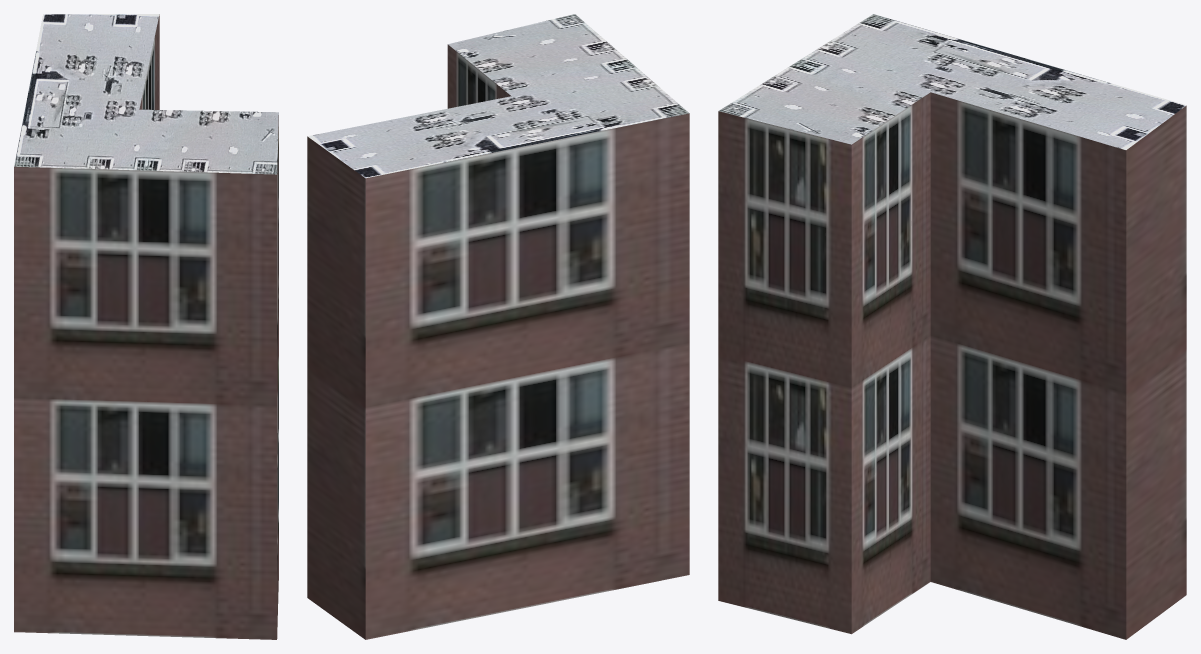
File: ResTex__3833.fbx
3 views of the same model, side by side, from view 1: azimuth 30°, elevation 25°; view 2: azimuth 150°, elevation 25°; view 3: azimuth 270°, elevation 25° (orthographic). The views are drawn at different scales.
Parts seen in each view (by area): view 1: CityEngineMaterial_12_m, CityEngineMaterial_4_m; view 2: CityEngineMaterial_12_m, CityEngineMaterial_4_m; view 3: CityEngineMaterial_12_m, CityEngineMaterial_4_m.
Boxes of the visible parts, x1,y1,x2,y2 form: CityEngineMaterial_12_m: [14, 14, 278, 639]; CityEngineMaterial_4_m: [14, 14, 278, 174]; CityEngineMaterial_12_m: [307, 44, 689, 639]; CityEngineMaterial_4_m: [308, 14, 689, 178]; CityEngineMaterial_12_m: [718, 92, 1186, 639]; CityEngineMaterial_4_m: [718, 14, 1186, 149].
Bounding box in the file's own units: 3.58 × 6 × 5.2.
Materials: 2 (2 with a texture image).
